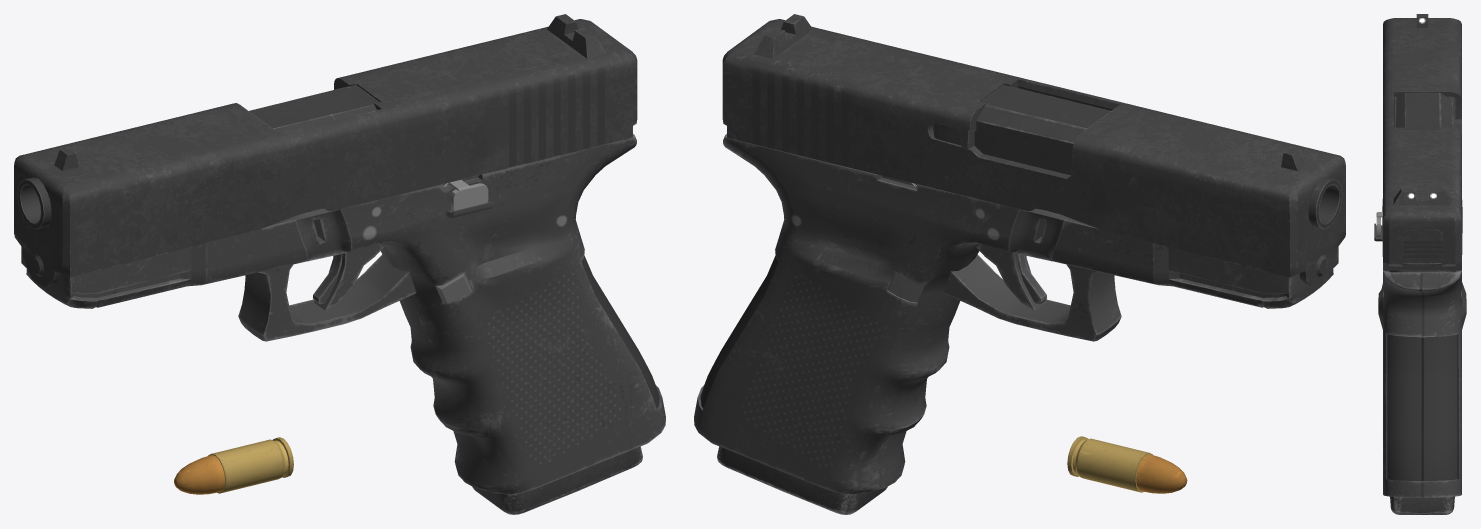
3 renders of one model, left to right at view 1: azimuth 30°, elevation 25°; view 2: azimuth 150°, elevation 25°; view 3: azimuth 270°, elevation 25°, orthographic. The views are drawn at different scales.
Visible parts, largest first — view 1: Frame, Slide, Barrel, Magazine, Shell, Trigger, Sight, Bullet, SlideLock; view 2: Frame, Slide, Barrel, Magazine, Shell, Trigger, Sight, Bullet; view 3: Frame, Slide, Barrel, Magazine, Sight, SlideLock.
Boxes of the visible parts, x1,y1,x2,y2 form: Frame: [21, 134, 665, 494]; Slide: [14, 19, 637, 287]; Barrel: [17, 85, 378, 229]; Magazine: [443, 175, 642, 514]; Shell: [208, 437, 293, 493]; Trigger: [313, 244, 383, 310]; Sight: [54, 14, 605, 170]; Bullet: [174, 455, 224, 494]; SlideLock: [449, 179, 488, 210]; Frame: [694, 134, 1338, 494]; Slide: [722, 19, 1345, 287]; Barrel: [974, 85, 1342, 229]; Magazine: [717, 175, 916, 514]; Shell: [1067, 436, 1152, 492]; Trigger: [976, 244, 1046, 310]; Sight: [754, 14, 1305, 170]; Bullet: [1136, 454, 1187, 493]; Frame: [1374, 199, 1466, 497]; Slide: [1383, 18, 1461, 270]; Barrel: [1396, 93, 1453, 129]; Magazine: [1390, 270, 1454, 514]; Sight: [1393, 14, 1451, 205]; SlideLock: [1376, 212, 1382, 236].
Bounding box in the file's own units: 1.87 × 1.31 × 0.3388.
Materials: 4 (4 with a texture image).
